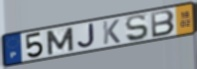5: (25, 31, 45, 59)
B: (149, 9, 176, 39)
J: (76, 23, 97, 50)
K: (101, 18, 122, 46)
M: (45, 26, 76, 56)
S: (124, 14, 150, 43)
